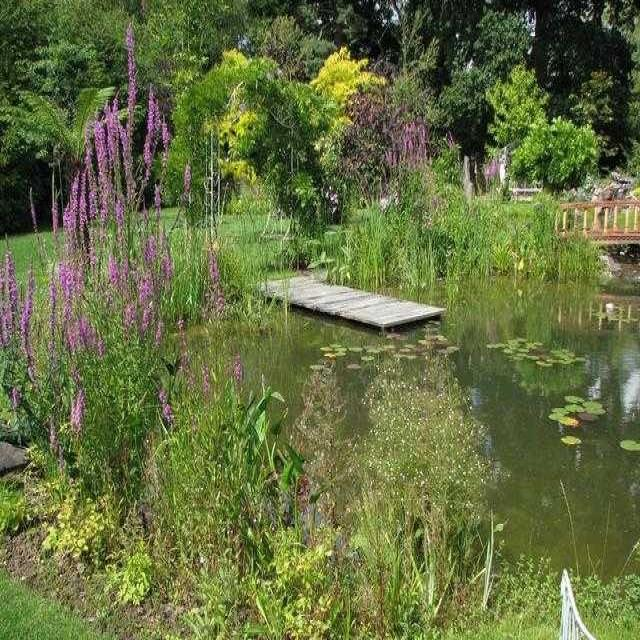Ponds: (253, 273, 640, 601)
